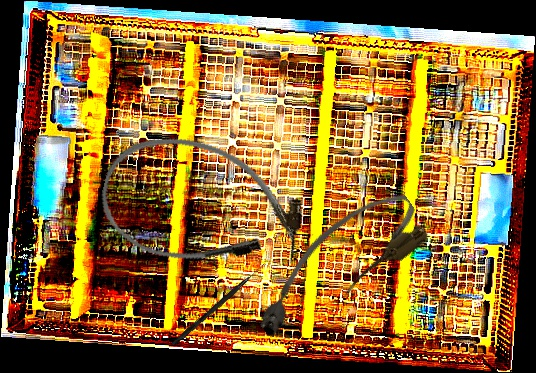Cannula: (89, 120, 316, 291), (236, 179, 435, 349)
Hook Surgical: (171, 260, 267, 348)
